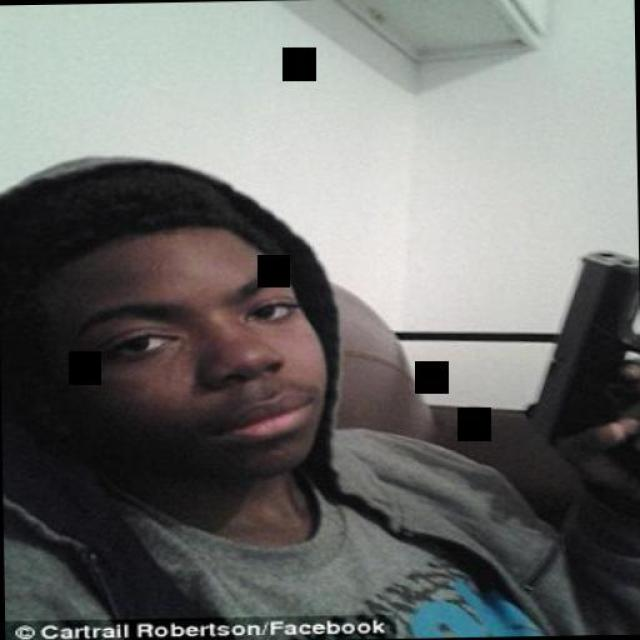gun: (517, 242, 640, 456)
